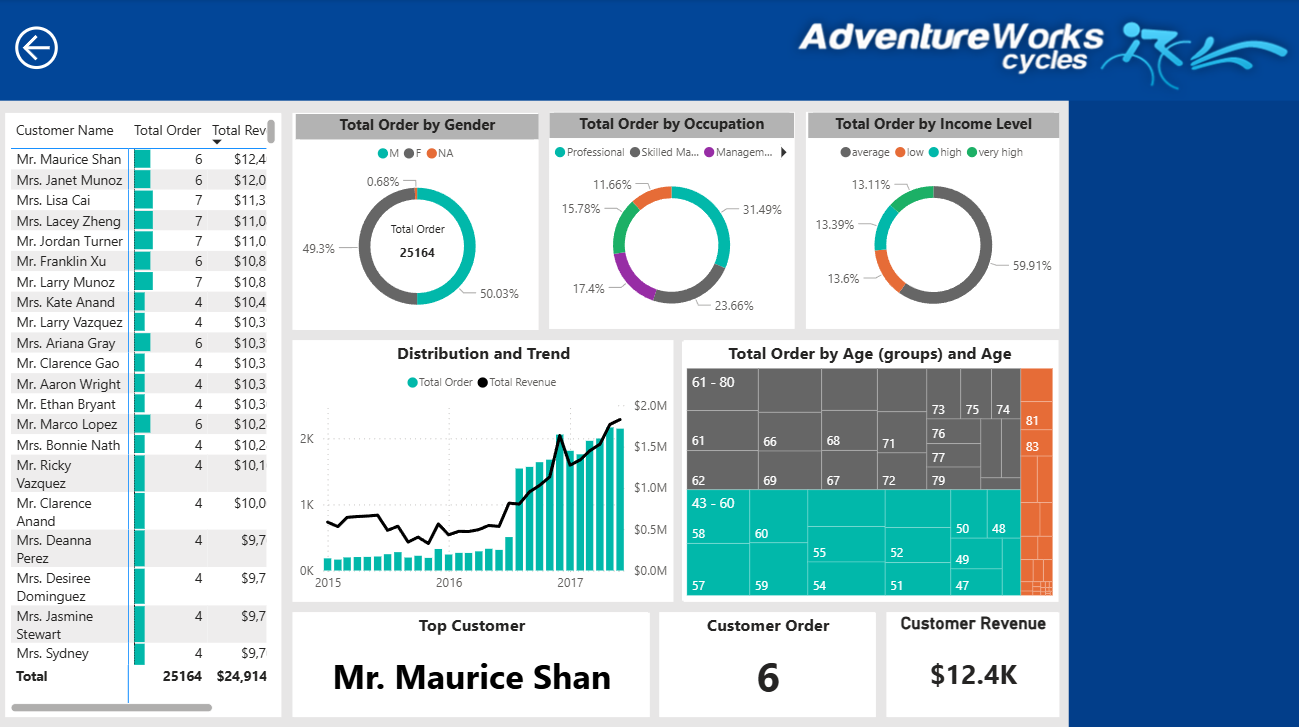

The dashboard page shown, as its layout file describes it:
{"tool":"powerbi","page":{"name":"Customer Details","canvas":[1280,720],"ordinal":4},"visuals":[{"type":"donutChart","fields":{"Y":["Sales.Total Order"],"Category":["AWCustomers.Gender"]},"box":[293.2,113,238.8,212.3],"z":0,"group":"g1"},{"type":"lineClusteredColumnComboChart","title":"Distribution and Trend","fields":{"Category":["AWCalendar.Start of Month"],"Y":["Sales.Total Order"],"Y2":["Sales.Total Revenue"]},"box":[291.9,336.5,371.5,254.5],"z":0},{"type":"card","title":"Total Order","fields":{"Values":["Sales.Total Order"]},"box":[377.4,217.9,69.9,51.9],"z":1000,"group":"g1"},{"type":"donutChart","title":"Total Order by Income Level","fields":{"Y":["Sales.Total Order"],"Category":["AWCustomers.IncomeGrp"]},"box":[796,112.2,246,212.3],"z":1000},{"type":"card","title":"Top Customer","fields":{"Values":["AWCustomers.Customer Name"]},"box":[291.9,603,348.5,102.5],"z":3000},{"type":"card","title":"Customer Order","fields":{"Values":["Sales.Total Order"]},"box":[651.3,603,211.1,102.5],"z":4000},{"type":"card","title":"Customer Revenue","fields":{"Values":["Sales.Total Revenue"]},"box":[874.4,603,167.6,102.5],"z":5000},{"type":"donutChart","fields":{"Y":["Sales.Total Order"],"Category":["AWCustomers.Occupation"]},"box":[542.7,112.2,240,212.3],"z":6000},{"type":"group","id":"g1","title":"Group 1","box":[293.2,113,238.8,212.3],"z":7000},{"type":"treemap","fields":{"Values":["Sales.Total Order"],"Group":["AWCustomers.Age (groups)"],"Details":["AWCustomers.Age"]},"box":[673,336.5,369,254.5],"z":8000},{"type":"actionButton","box":[8.4,20.5,60,54],"z":9000},{"type":"pivotTable","fields":{"Rows":["AWCustomers.Customer Name"],"Values":["Sales.Total Order","Sales.Total Revenue"]},"box":[8.4,113.4,270.2,592.2],"z":10000}]}

Visuals, with their boxes in screenshot pixels (x1, y1, x2, y2), scaled from the page's 1280x720 canvas onto the 1299x727 screenshot:
donutChart - Sales.Total Order x AWCustomers.Gender: (298, 114, 540, 328)
"Distribution and Trend" lineClusteredColumnComboChart: (296, 340, 673, 597)
"Total Order" card: (383, 220, 454, 272)
"Total Order by Income Level" donutChart: (808, 113, 1057, 328)
"Top Customer" card: (296, 609, 650, 712)
"Customer Order" card: (661, 609, 875, 712)
"Customer Revenue" card: (887, 609, 1057, 712)
donutChart - Sales.Total Order x AWCustomers.Occupation: (551, 113, 794, 328)
"Group 1" group: (298, 114, 540, 328)
treemap - Sales.Total Order x AWCustomers.Age (groups): (683, 340, 1057, 597)
actionButton: (9, 21, 69, 75)
pivotTable - AWCustomers.Customer Name x Sales.Total Order: (9, 115, 283, 712)
